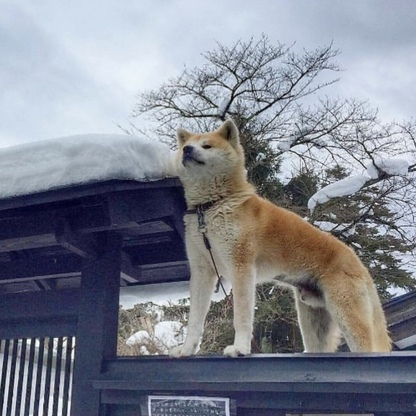akita: (161, 114, 401, 359)
